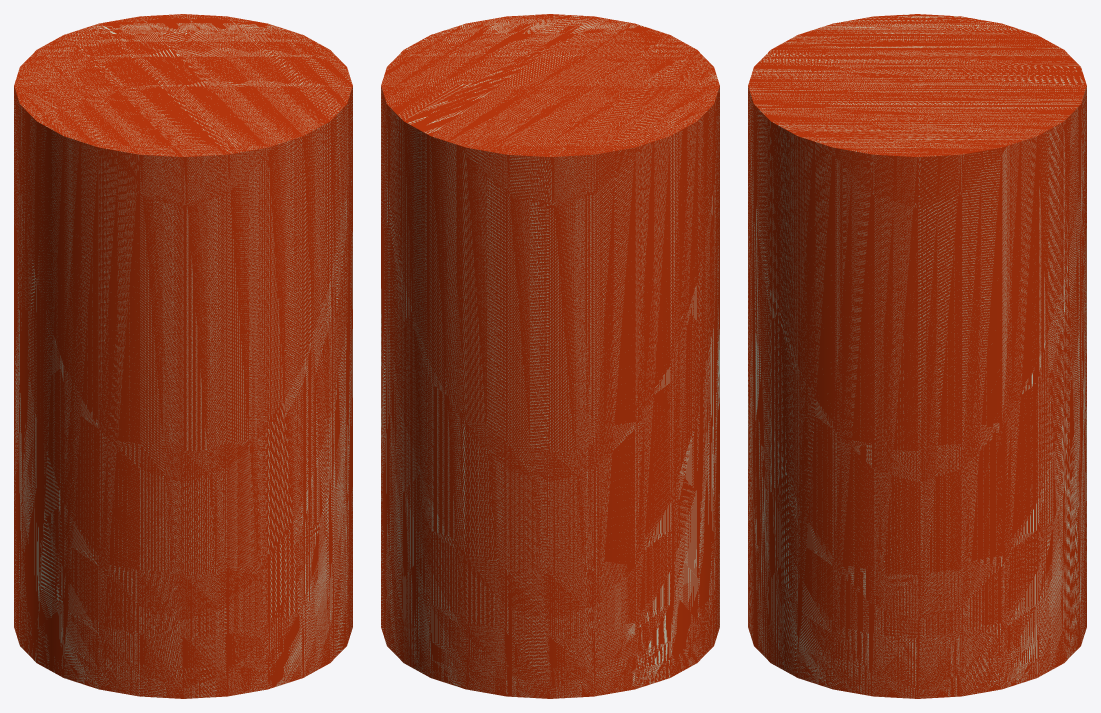
Rendered from original-4.obj.
The picture shows the model from 3 angles, left to right: view 1: azimuth 30°, elevation 25°; view 2: azimuth 150°, elevation 25°; view 3: azimuth 270°, elevation 25°; orthographic projection.
Visible parts, largest first — view 1: mesh2/mesh2-geometry#mesh2-geometry; view 2: mesh2/mesh2-geometry#mesh2-geometry; view 3: mesh2/mesh2-geometry#mesh2-geometry.
Part boxes in pixels (<box>): mesh2/mesh2-geometry#mesh2-geometry: <box>14,14,352,698</box>; mesh2/mesh2-geometry#mesh2-geometry: <box>381,14,719,698</box>; mesh2/mesh2-geometry#mesh2-geometry: <box>748,14,1086,698</box>.
Bounding box in the file's own units: 0.0288 × 0.0508 × 0.0288.
